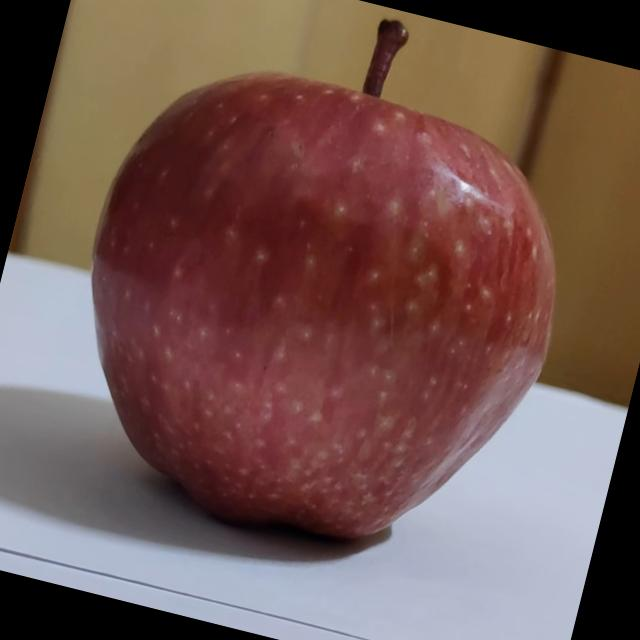apple: (29, 0, 618, 589)
